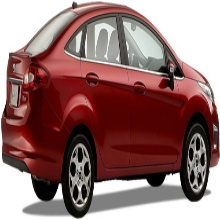no damage: (1, 2, 220, 217)
